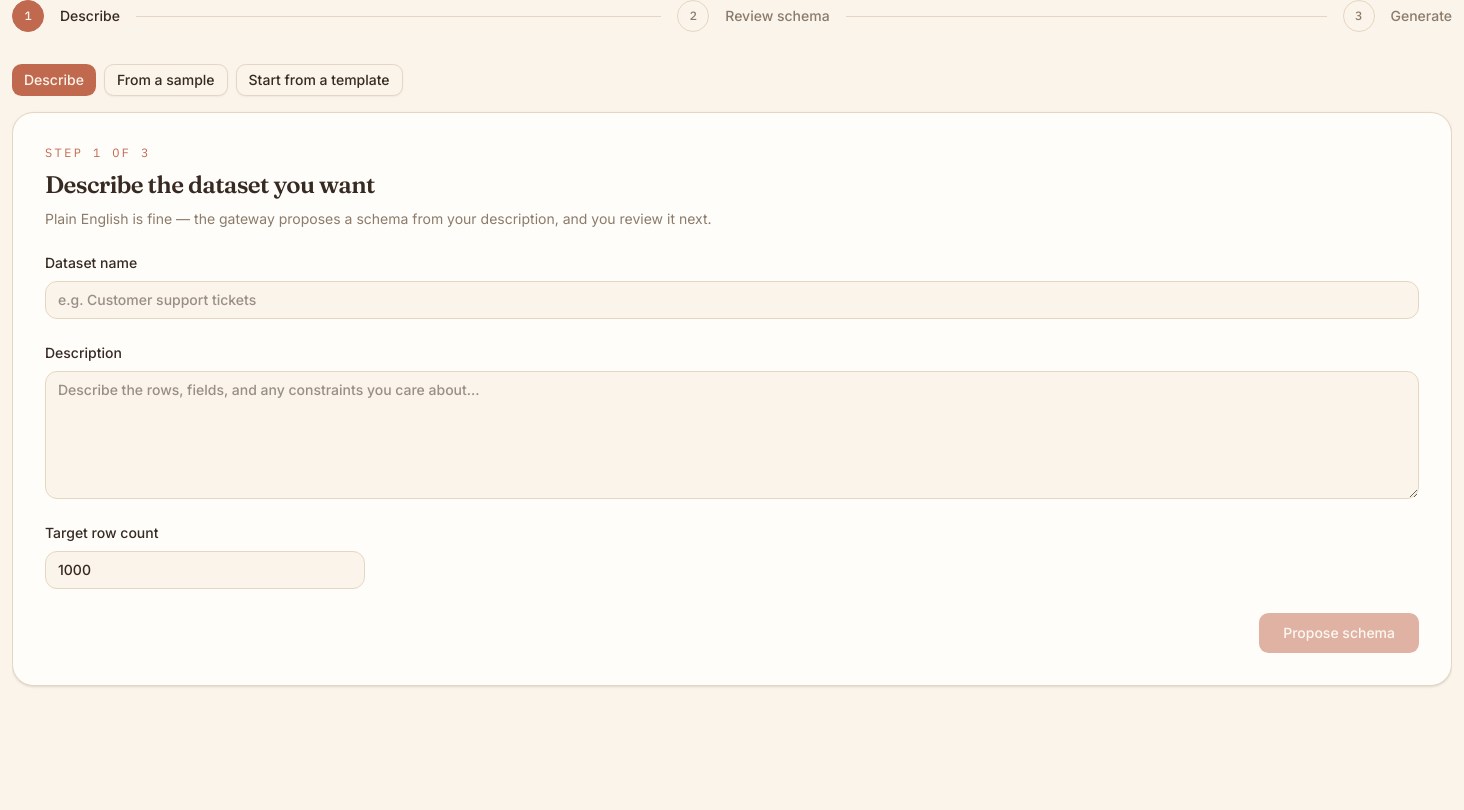
Test: create-from-description wizard › surfaces an inline error and stays on the describe step when schema proposal fails
Type "Support tickets" into the field labelled "Dataset name".
click(732, 300); type("Support tickets")  # box [45, 281, 1419, 319]
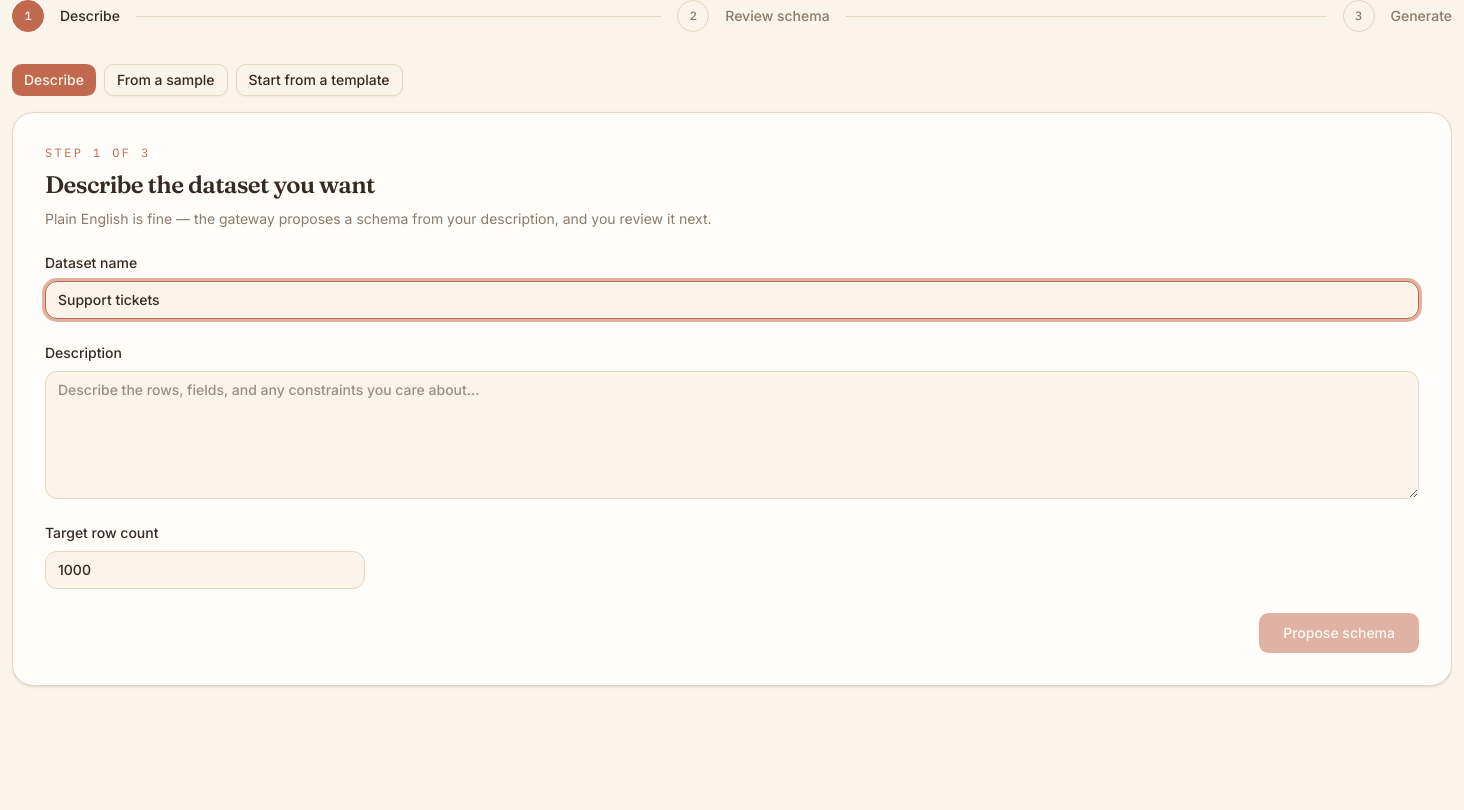
Type "Customer support tickets with a priority and a resolved flag" into the text box labelled "Description".
click(732, 435); type("Customer support tickets with a priority and a resolved flag")  # box [45, 371, 1419, 499]
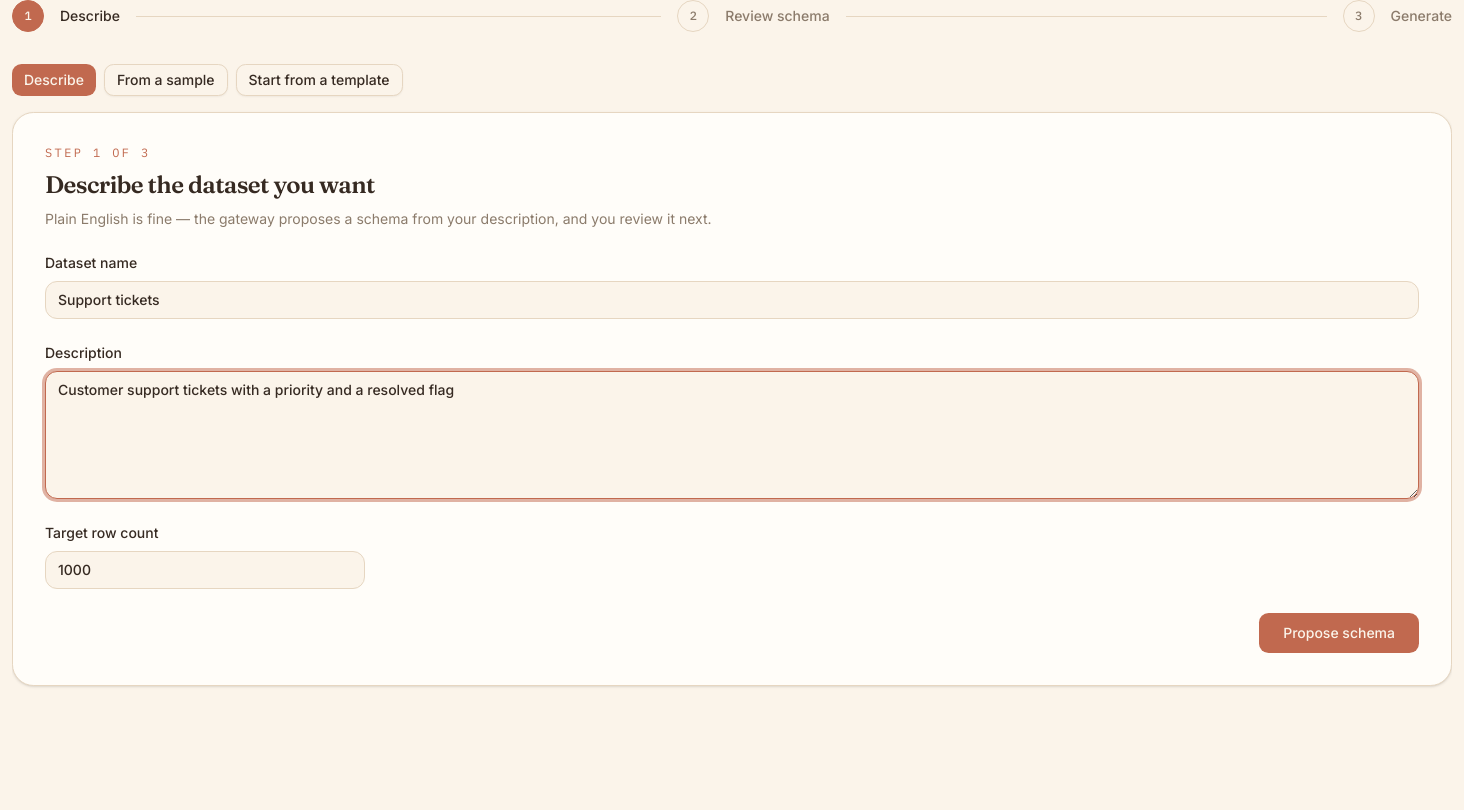
Replace the text in the number field labelled "Target row count" with "500" at (205, 570), box [45, 551, 365, 589]
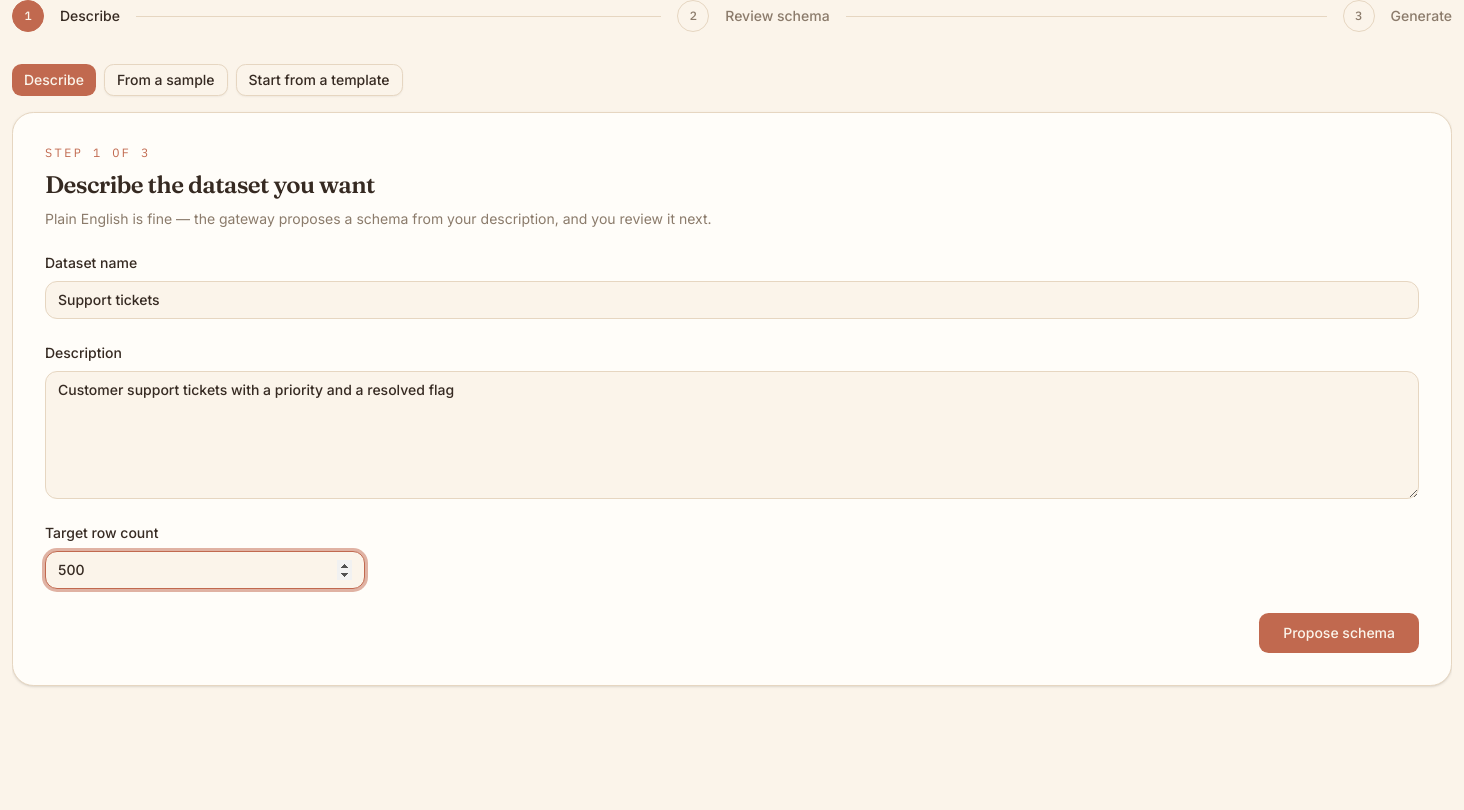
Click the button "Propose schema".
click(1339, 633)  # box [1259, 613, 1419, 653]
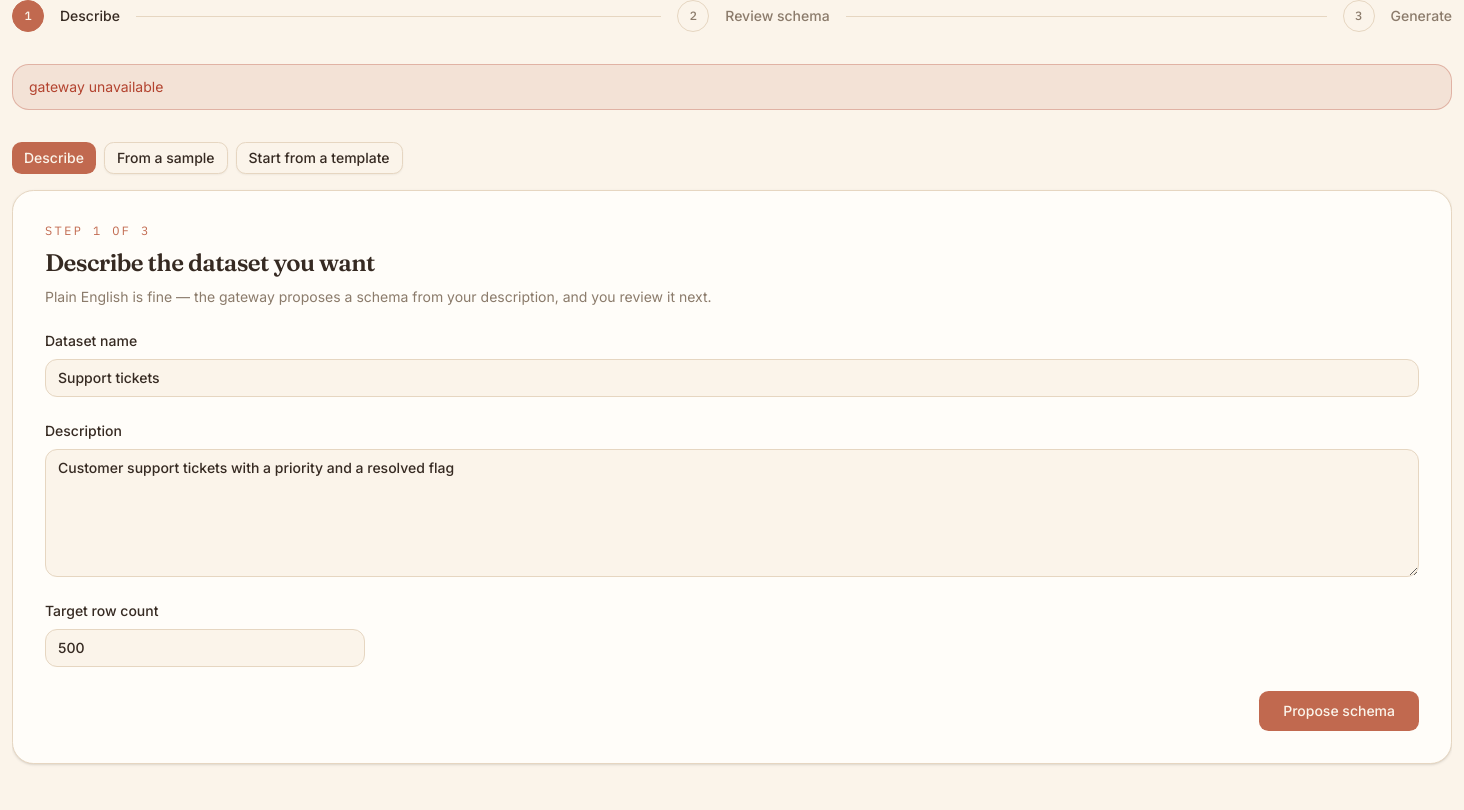
Expected: the heading "Describe the dataset you want" is shown, [45, 248, 375, 277]
Expected: the message reads "gateway unavailable", [29, 78, 163, 95]
